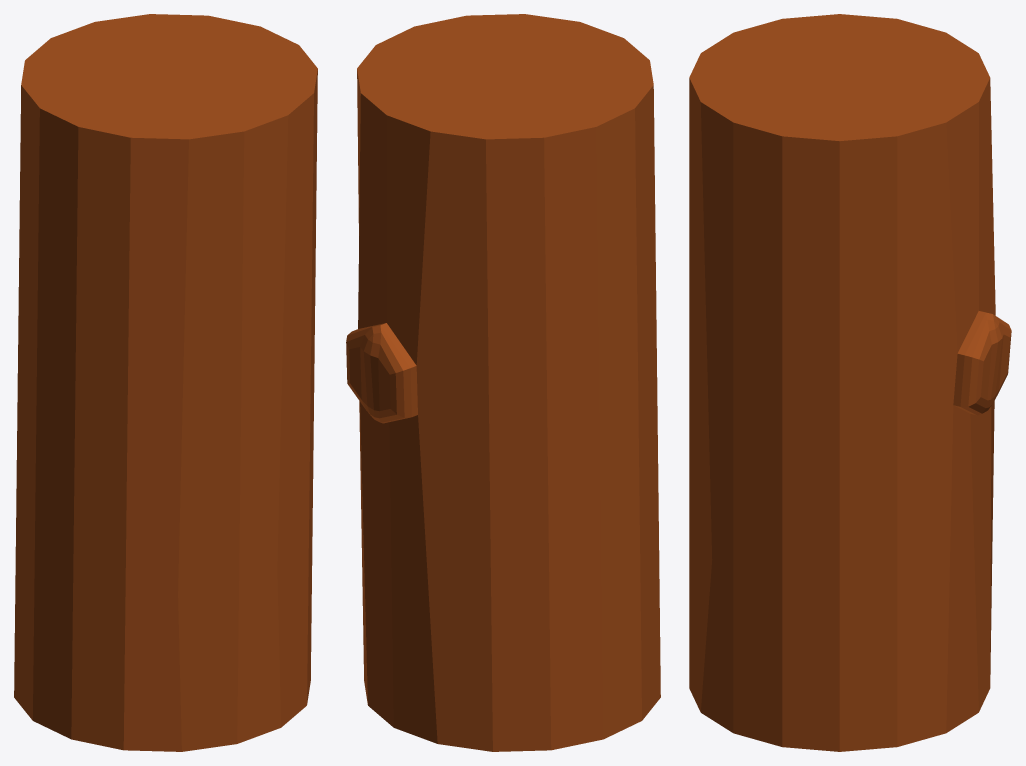
The model's file is yuvarlaklı_govde_v2.fbx.
3 renders of one model, left to right at view 1: azimuth 30°, elevation 25°; view 2: azimuth 150°, elevation 25°; view 3: azimuth 270°, elevation 25°, orthographic.
Visible parts, largest first — view 1: Cylinder.011; view 2: Cylinder.011; view 3: Cylinder.011.
Boxes of the visible parts, x1,y1,x2,y2 form: Cylinder.011: (14,14,317,751); Cylinder.011: (346,14,660,751); Cylinder.011: (689,14,1011,751).
Bounding box in the file's own units: 3.13 × 6.87 × 3.27.
